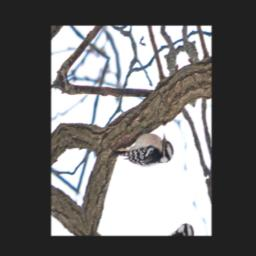Woodpecker: (110, 113, 176, 185)
